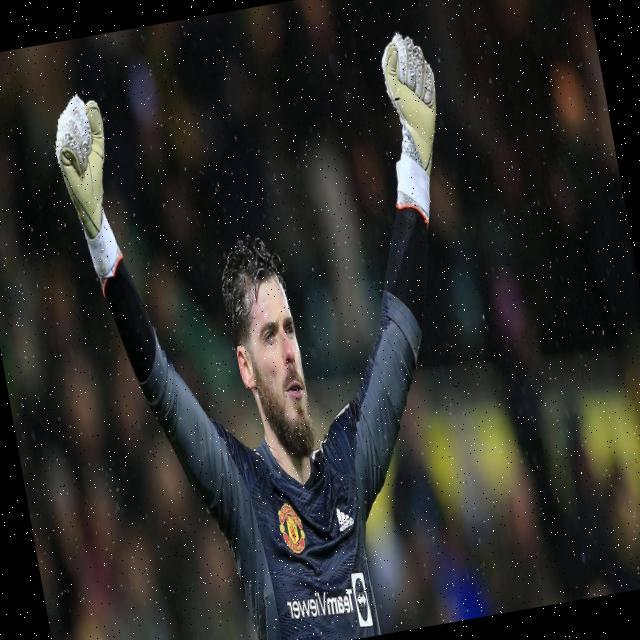Adidas: (333, 501, 355, 536)
TeamViewer: (282, 570, 373, 640)
